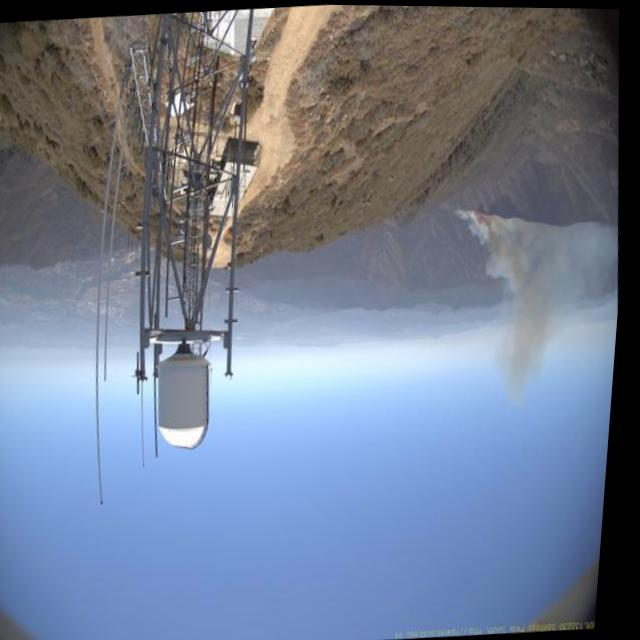smoke: (450, 195, 629, 401)
